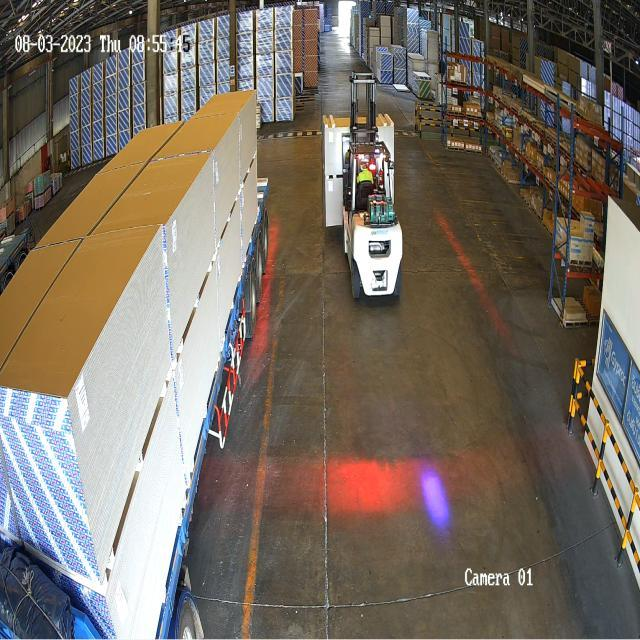driver: (356, 154, 376, 189)
forklift: (340, 134, 408, 308)
